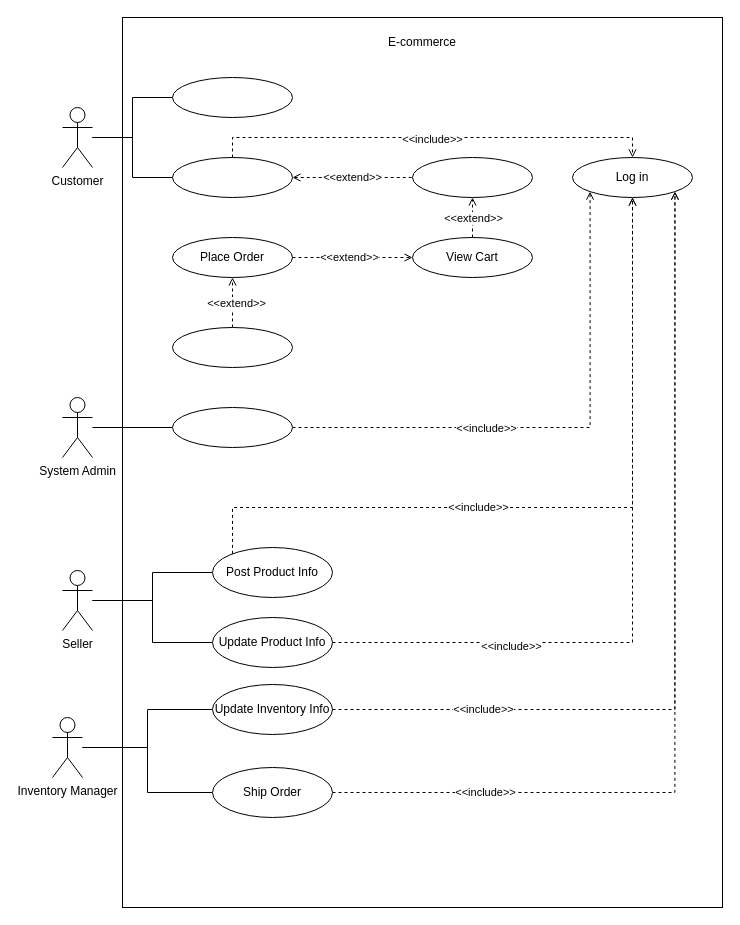
This 740x925 diagram has some shape labels left out. The box of each missing label's shape, as (x1, y1, x2, y2) in pixels:
Add Product to Cart: (412, 156, 532, 198)
Manage Customer Accounts: (172, 406, 292, 448)
Register: (172, 76, 292, 118)
Track Order: (172, 326, 292, 368)
View Product: (172, 156, 292, 198)
